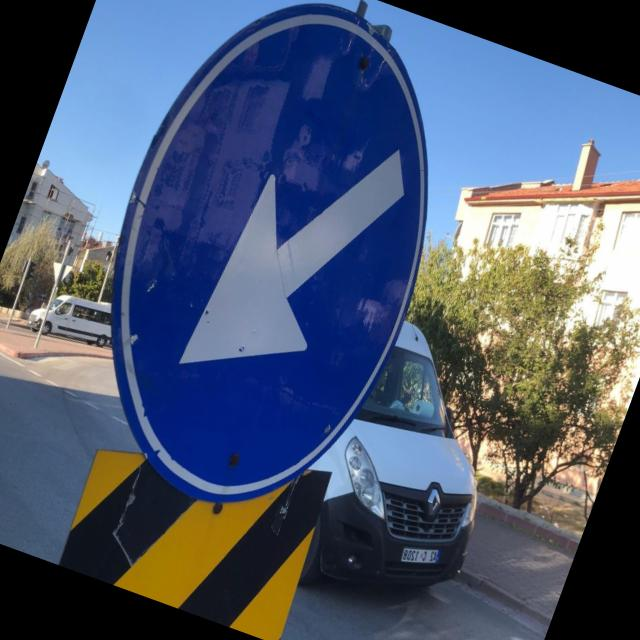compulsory_keep_right: (35, 0, 505, 545)
